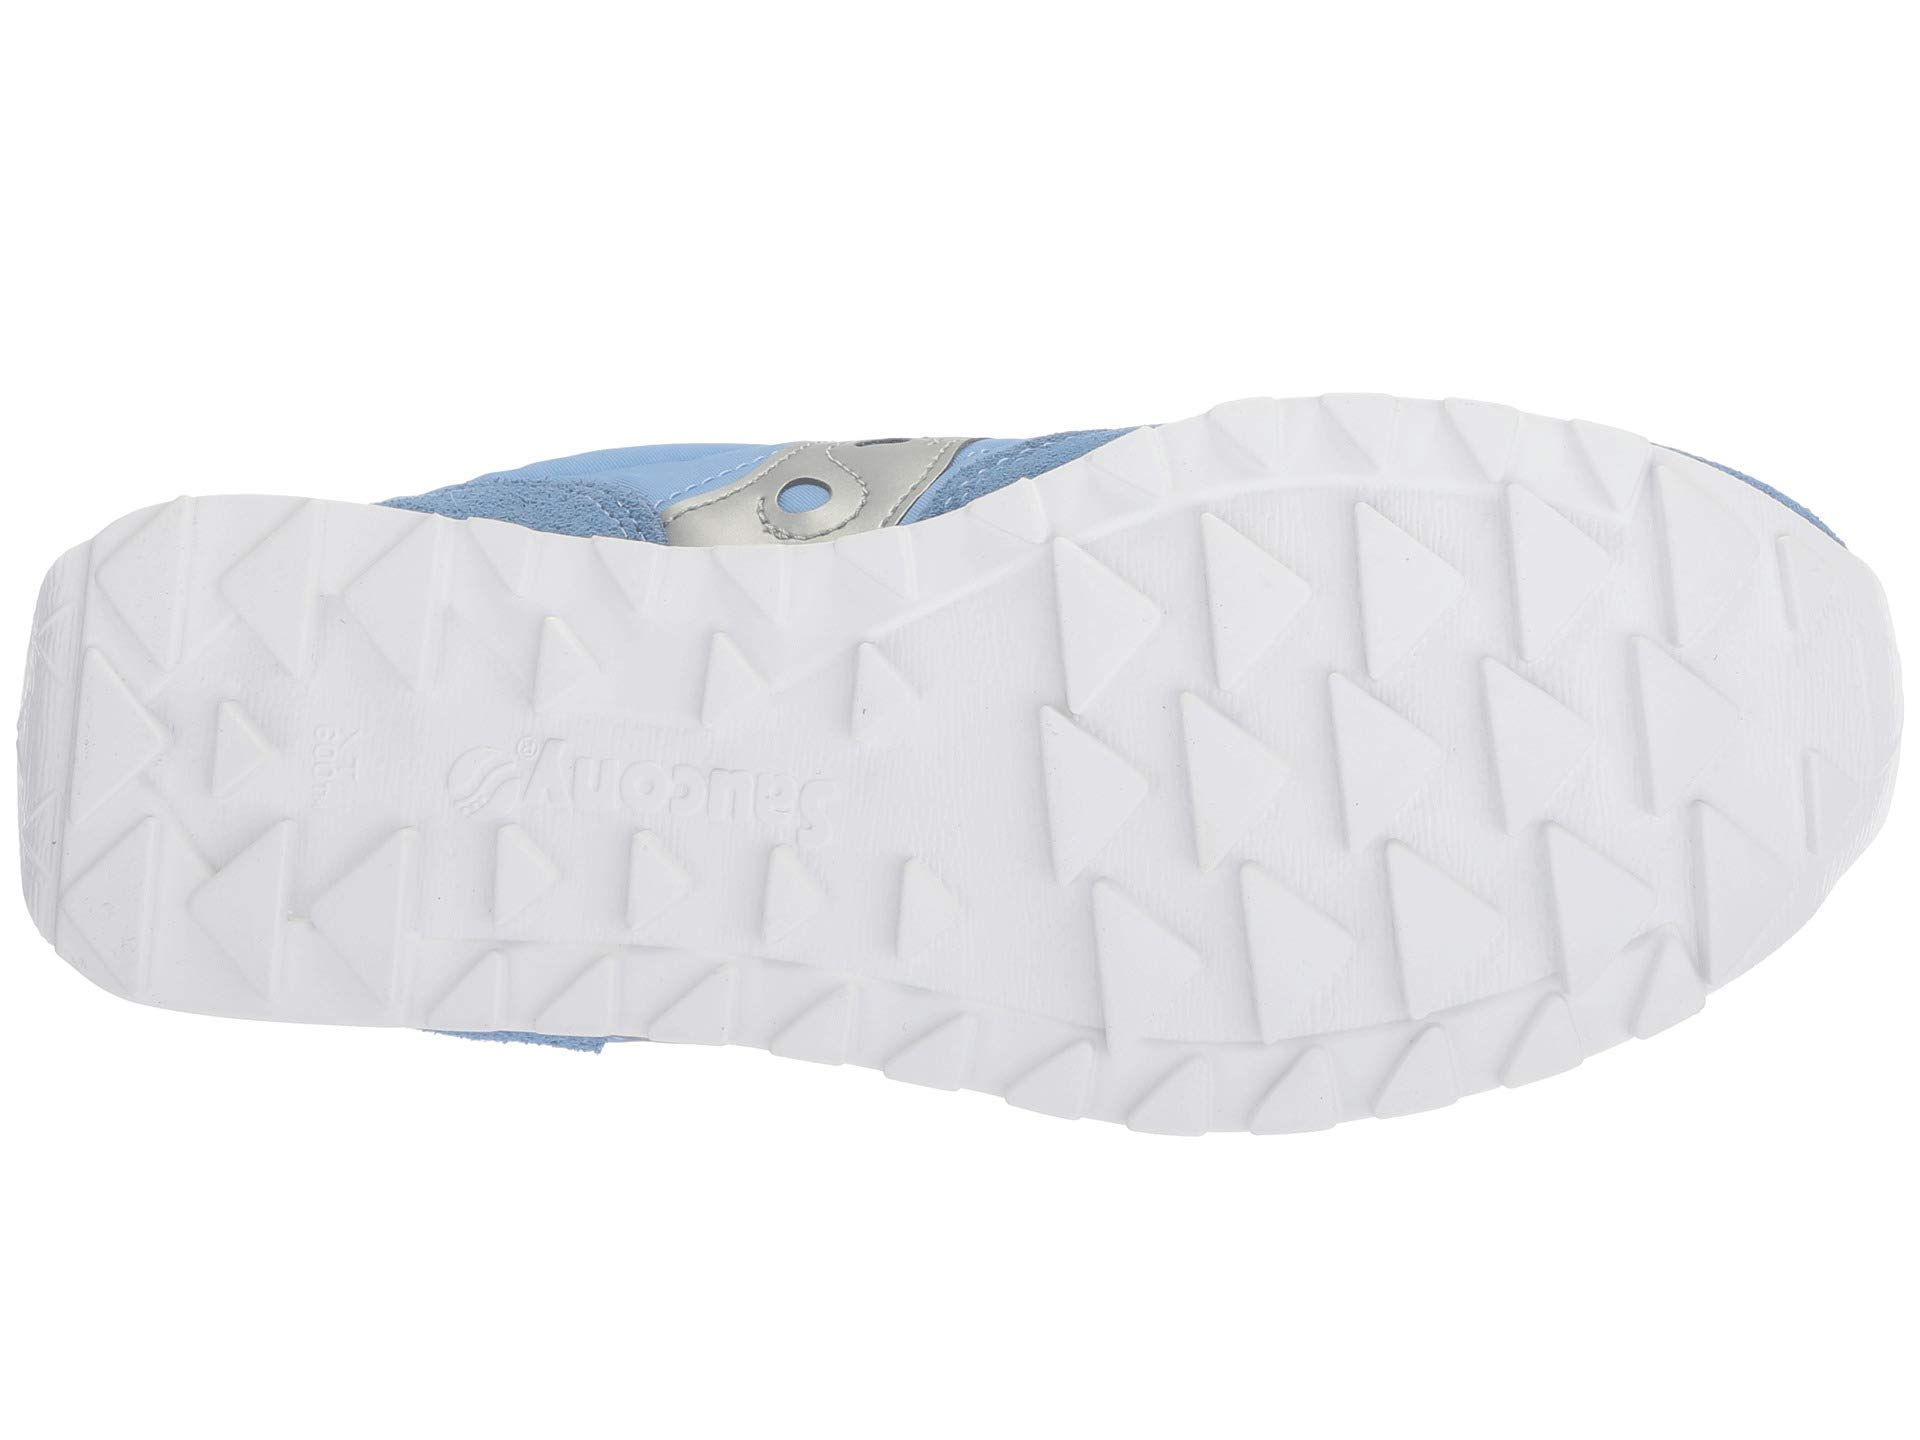text: (423, 702, 836, 1030)
triangle: (1019, 514, 1528, 1069), (1491, 460, 1844, 870), (44, 502, 389, 902), (423, 702, 836, 1030)
